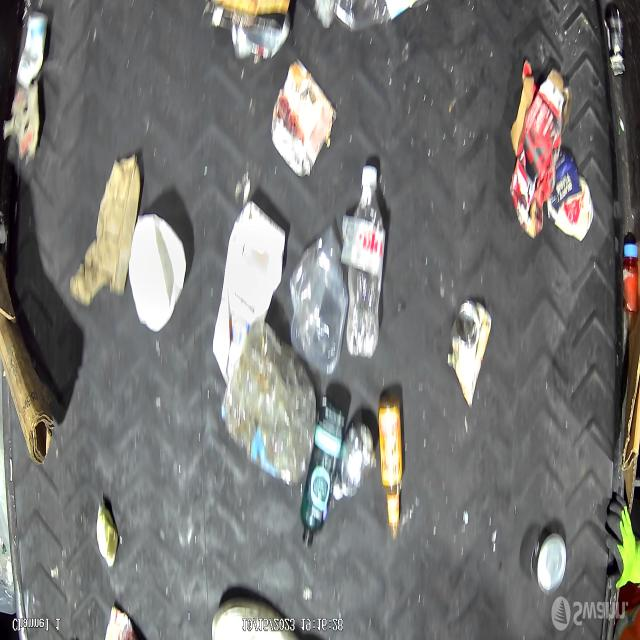can: (270, 57, 339, 182), (448, 299, 494, 407), (531, 530, 568, 598)
plastic_bottle: (344, 164, 387, 362)
